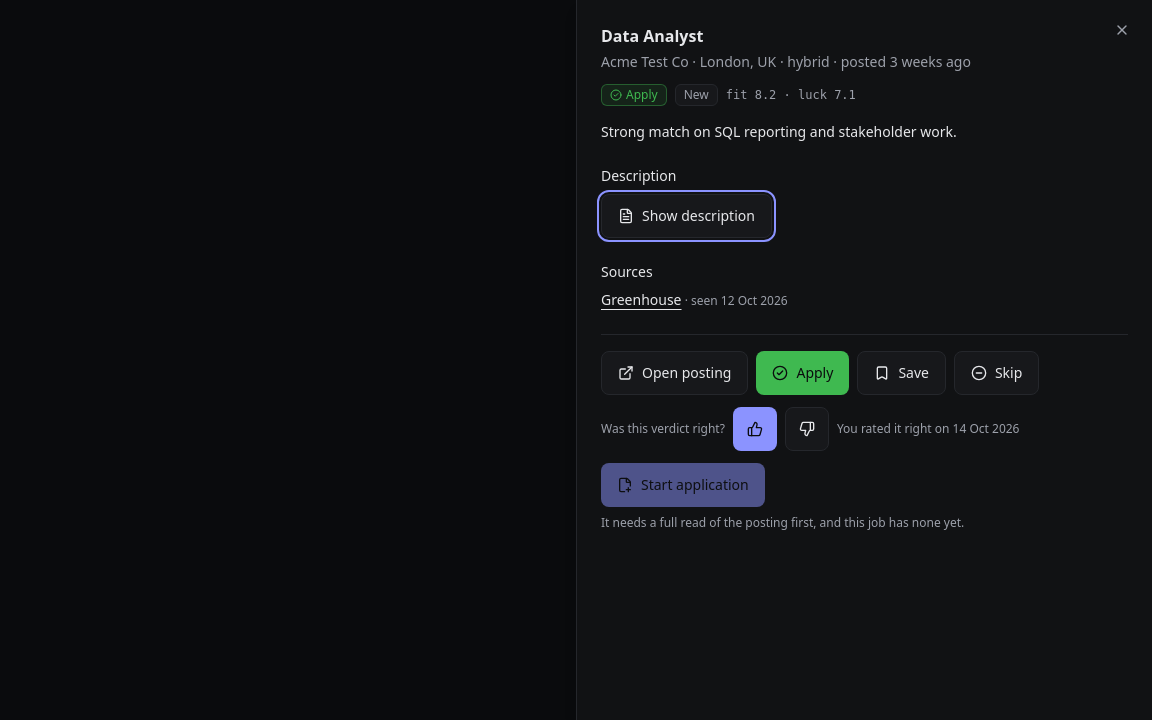
JobDetail › puts the rating back and shows the error when removing it is refused
Click the button named "Verdict was right" at (755, 429), box left=733, top=407, right=777, bottom=451
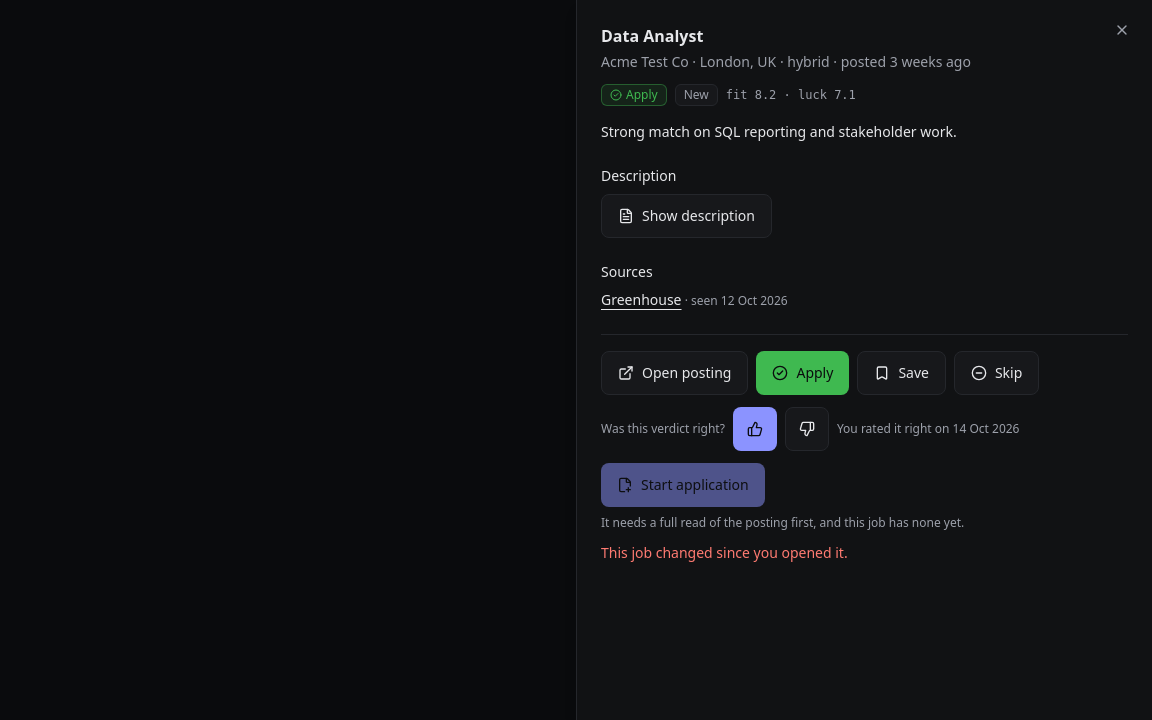
Expected: the message shows "changed", left=601, top=543, right=848, bottom=562
